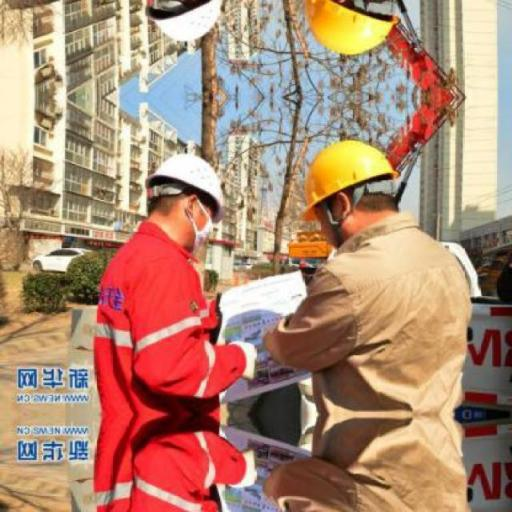helmet: (289, 132, 405, 220), (130, 146, 236, 224)
vest: (290, 222, 484, 416), (82, 232, 244, 418)
